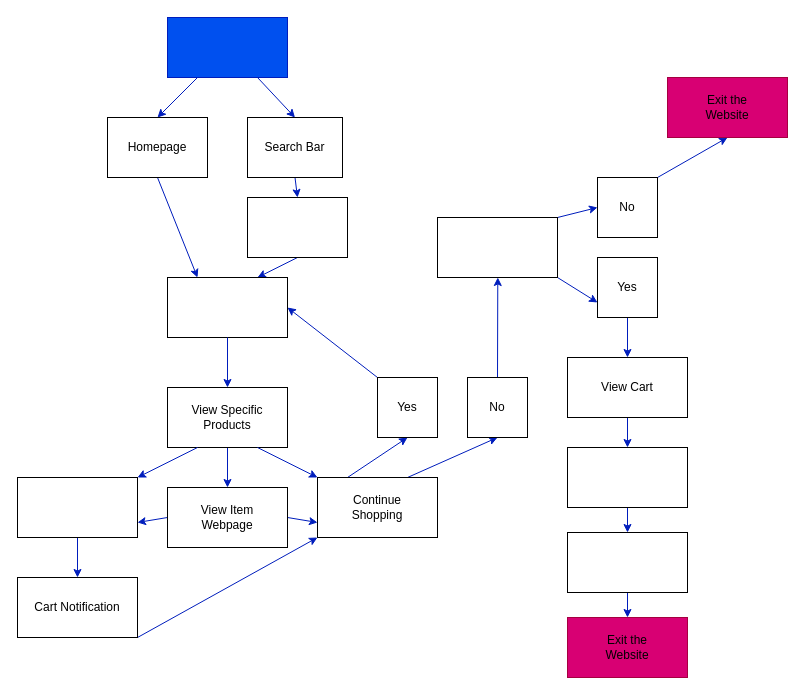
Image size: 805x695. Some labels were removed from this diagram. Each missing label, with the box of its shape:
Add Item to Cart: (16, 476, 138, 538)
Checkout: (436, 216, 558, 278)
Explore Products: (166, 276, 288, 338)
Order Confirmation Screen + Email: (566, 532, 688, 592)
User Enters the Website: (166, 16, 288, 78)
User Input: (246, 196, 348, 258)
View Payment / Input: (566, 446, 688, 508)
